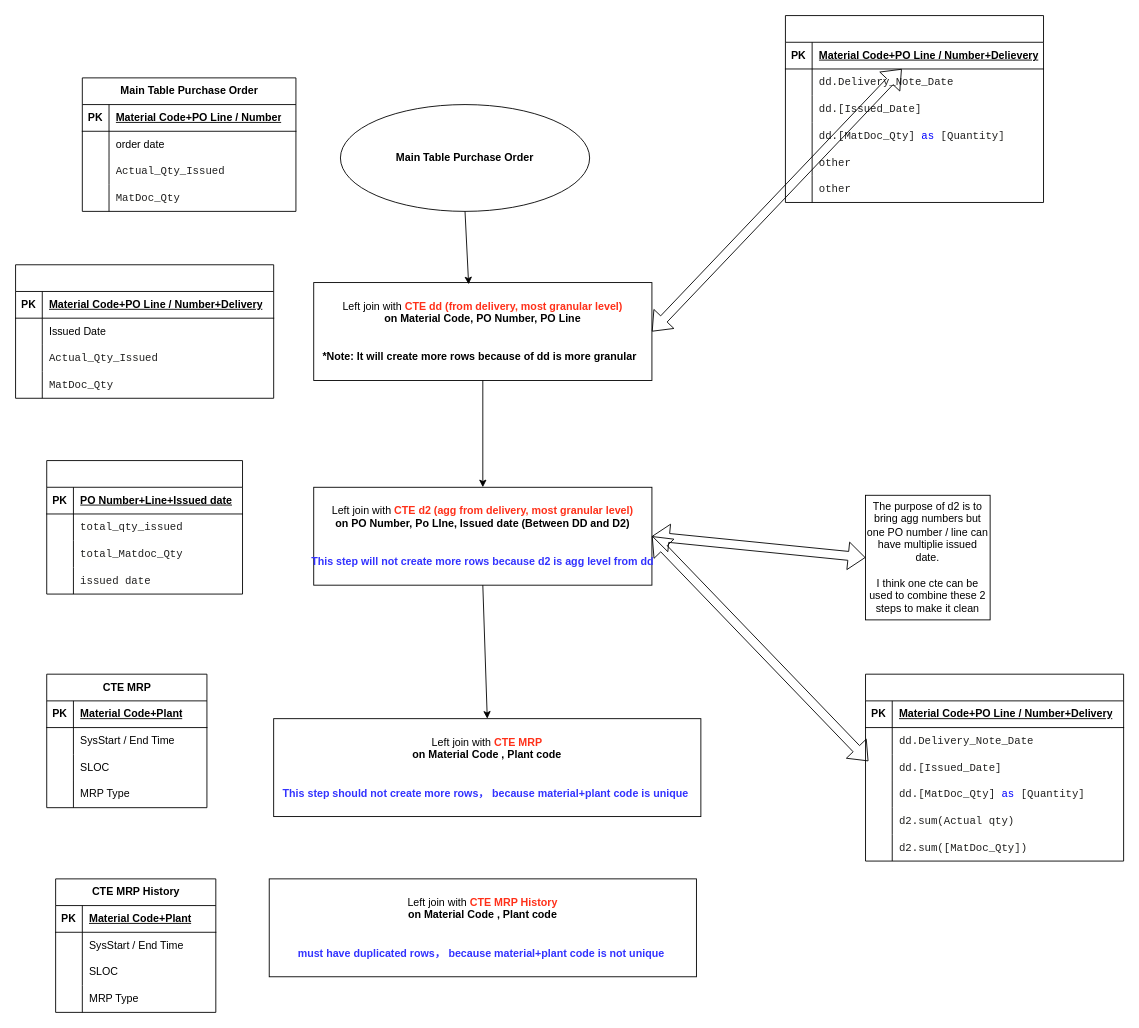
This 1139x1028 diagram has some shape labels left out. The box of each missing label's shape, as (x1, y1, x2, y2) in pixels:
After Left Join: (785, 15, 1044, 202)
CTE d2 (agg from delievery): (46, 460, 243, 594)
CTE dd (from delivery, most granular level): (15, 264, 274, 398)
dd d2 left join: (865, 673, 1124, 861)
